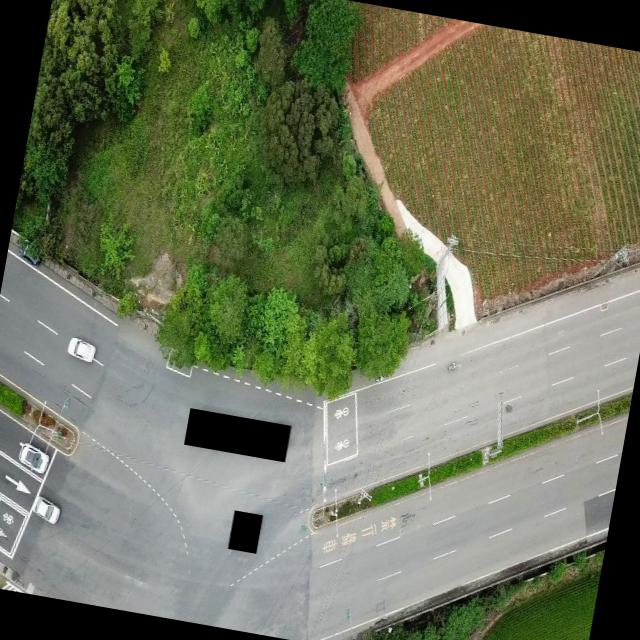bike: (446, 359, 458, 374)
car: (17, 442, 53, 476), (32, 494, 64, 524), (68, 335, 100, 363)
